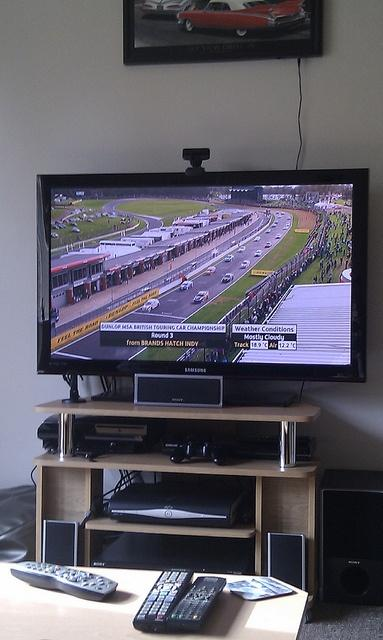AIO PC-Monitor-TV: (35, 167, 368, 385)
